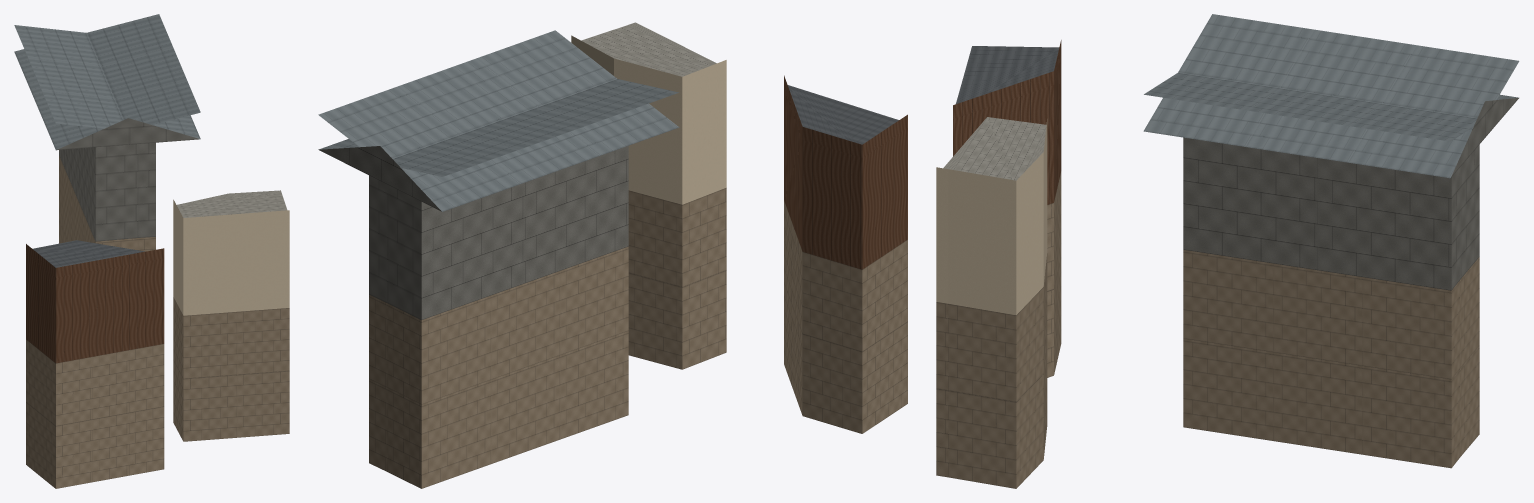
The model's file is bld_c3_-2_554.gltf.
3 renders of one model, left to right at view 1: azimuth 30°, elevation 25°; view 2: azimuth 150°, elevation 25°; view 3: azimuth 270°, elevation 25°, orthographic. The views are drawn at different scales.
Parts seen in each view (by area): view 1: bld_c3_-2_554; view 2: bld_c3_-2_554; view 3: bld_c3_-2_554.
Boxes of the visible parts, x1,y1,x2,y2 form: bld_c3_-2_554: [14, 14, 289, 488]; bld_c3_-2_554: [318, 22, 907, 488]; bld_c3_-2_554: [936, 14, 1519, 488].
Bounding box in the file's own units: 10.86 × 10.5 × 14.37.
Materials: 10 (10 with a texture image).
